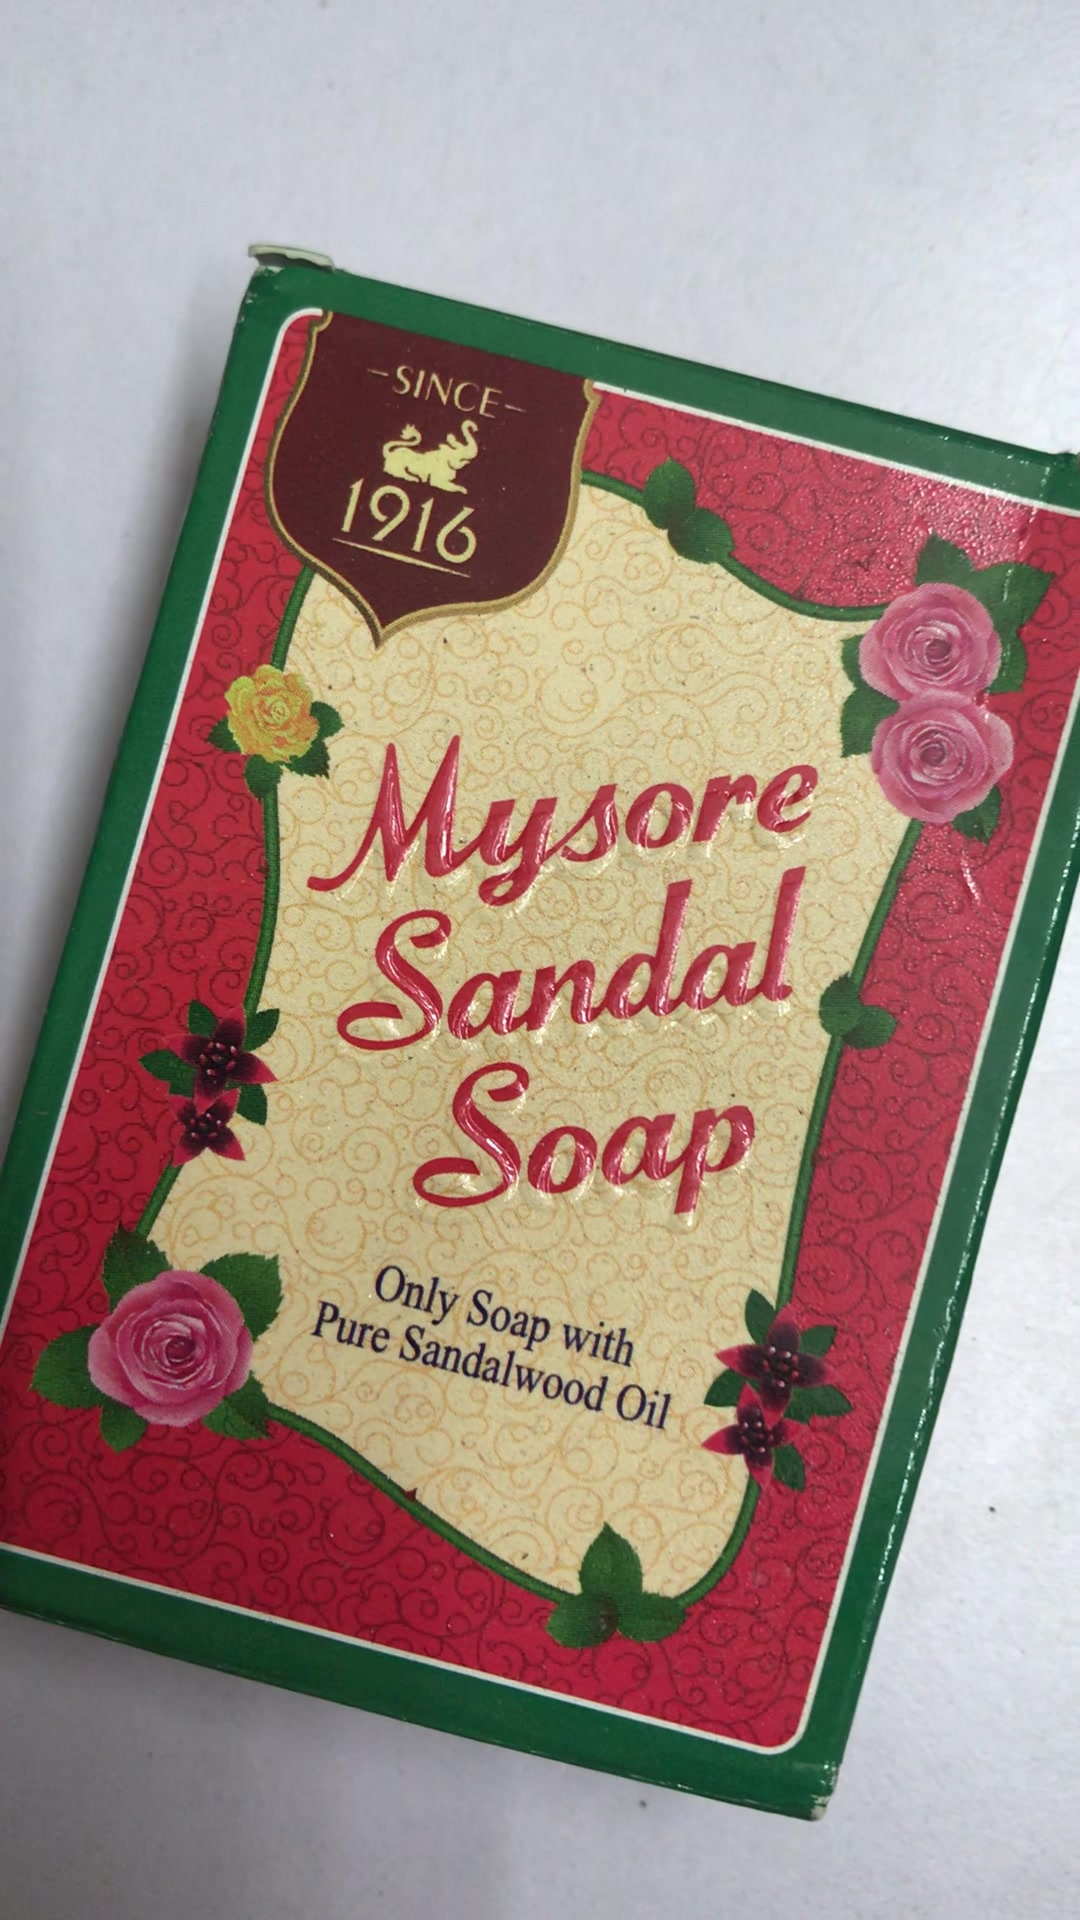mysore sandal soap: (1, 255, 1080, 1818)
